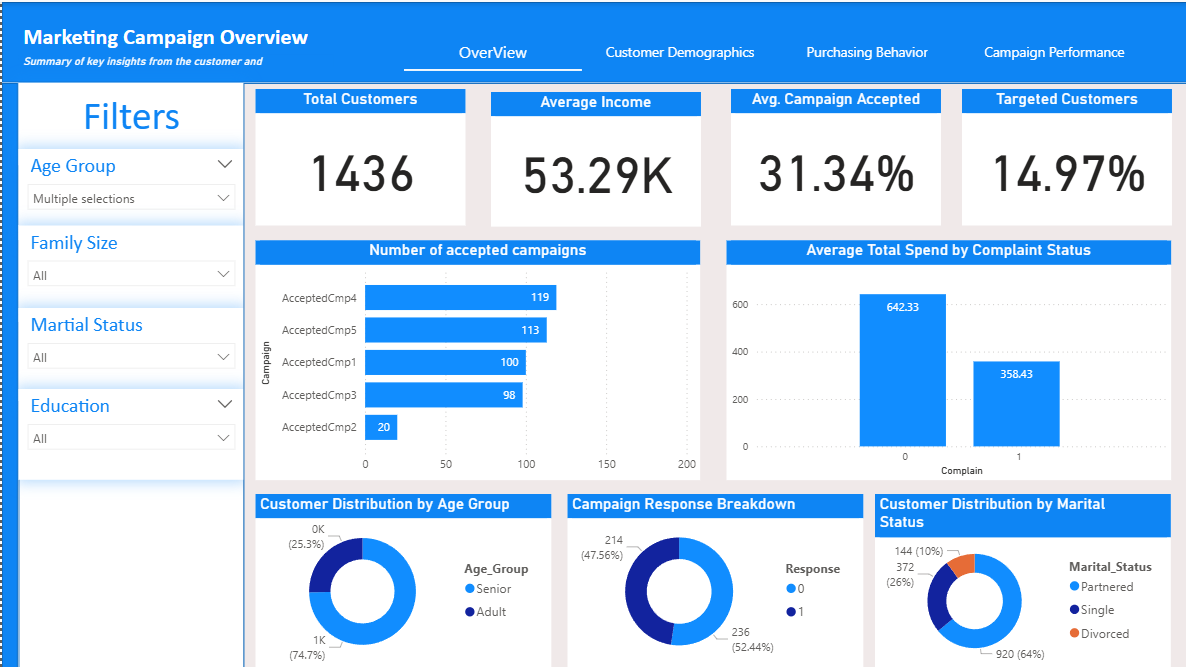

Layout of this report page (visuals, bound fields, positions):
{"tool":"powerbi","page":{"name":"OverView","canvas":[1280,720],"ordinal":0},"visuals":[{"type":"shape","box":[0,0,1281.3,86.9],"z":0},{"type":"shape","box":[0,86.9,17,633.1],"z":1000},{"type":"textbox","title":"Marketing Campaign Overview","box":[17,22.7,340.2,34],"z":2000},{"type":"textbox","title":"Summary of key insights from the customer and campaign data","box":[17,56.7,340.2,13.2],"z":3000},{"type":"shape","box":[17,86.9,243.8,633.1],"z":4000},{"type":"textbox","title":"Filters","box":[17,86.9,243.8,88.8],"z":5000},{"type":"slicer","fields":{"Values":["Marketing Campaign CLeaned.Age_Group"]},"box":[17,158.7,243.8,98.3],"z":6000},{"type":"slicer","fields":{"Values":["Marketing Campaign CLeaned.FamilySize"]},"box":[17,241.9,243.8,103.9],"z":7000},{"type":"slicer","fields":{"Values":["Marketing Campaign CLeaned.Marital_Status"]},"box":[17,330.7,243.8,100.2],"z":8000},{"type":"slicer","fields":{"Values":["Marketing Campaign CLeaned.Education"]},"box":[17,417.6,243.8,98.3],"z":9000},{"type":"shape","box":[260.8,86.9,1018.6,633.1],"z":10000},{"type":"card","title":"Total Customers","fields":{"Values":["Marketing Campaign CLeaned.Total Customers"]},"box":[274,94.5,226.8,147.4],"z":11000},{"type":"card","title":"Average Income","fields":{"Values":["Avg(Marketing Campaign CLeaned.Income)"]},"box":[527.2,96.4,226.8,145.5],"z":12000},{"type":"card","title":"Targeted Customers ","fields":{"Values":["Marketing Campaign CLeaned.Targeted Customers"]},"box":[1035.6,94.5,226.8,147.4],"z":13000},{"type":"card","title":"Avg. Campaign Accepted","fields":{"Values":["Avg(Marketing Campaign CLeaned.TotalAcceptedCmp)"]},"box":[786.1,94.5,226.8,147.4],"z":14000},{"type":"barChart","title":"Number of accepted campaigns","fields":{"Category":["marketing campaign unpivot.Campaign"],"Y":["Sum(marketing campaign unpivot.Accepted)"]},"box":[274,257,480,258.9],"z":15000},{"type":"donutChart","title":"Campaign Response Breakdown","fields":{"Category":["Marketing Campaign CLeaned.Response"],"Y":["Sum(Marketing Campaign CLeaned.TotalAcceptedCmp)"]},"box":[610.4,531,319.4,189],"z":16000},{"type":"donutChart","title":"Customer Distribution by Marital Status","fields":{"Y":["Marketing Campaign CLeaned.Total Customers"],"Category":["Marketing Campaign CLeaned.Marital_Status"]},"box":[943,531,319.4,189],"z":17000},{"type":"donutChart","title":"Customer Distribution by Age Group","fields":{"Y":["Marketing Campaign CLeaned.Total Customers"],"Category":["Marketing Campaign CLeaned.Age_Group"]},"box":[274,531,319.4,189],"z":18000},{"type":"columnChart","title":"Average Total Spend by Complaint Status","fields":{"Y":["Avg(Marketing Campaign CLeaned.TotalSpend)"],"Category":["Marketing Campaign CLeaned.Complain"]},"box":[782.4,257,480,258.9],"z":19000},{"type":"pageNavigator","box":[433.2,33.2,800.1,42.4],"z":19001}]}

Visuals, with their boxes in screenshot pixels (x1, y1, x2, y2), scaled from the page's 1280x720 canvas onto the 1186x667 screenshot:
shape: bbox(0, 0, 1185, 81)
shape: bbox(0, 81, 16, 666)
"Marketing Campaign Overview" textbox: bbox(16, 21, 331, 53)
"Summary of key insights from the customer and campaign data" textbox: bbox(16, 53, 331, 65)
shape: bbox(16, 81, 242, 666)
"Filters" textbox: bbox(16, 81, 242, 163)
slicer - Marketing Campaign CLeaned.Age_Group: bbox(16, 147, 242, 238)
slicer - Marketing Campaign CLeaned.FamilySize: bbox(16, 224, 242, 320)
slicer - Marketing Campaign CLeaned.Marital_Status: bbox(16, 306, 242, 399)
slicer - Marketing Campaign CLeaned.Education: bbox(16, 387, 242, 478)
shape: bbox(242, 81, 1185, 666)
"Total Customers" card: bbox(254, 88, 464, 224)
"Average Income" card: bbox(488, 89, 699, 224)
"Targeted Customers " card: bbox(960, 88, 1170, 224)
"Avg. Campaign Accepted" card: bbox(728, 88, 939, 224)
"Number of accepted campaigns" barChart: bbox(254, 238, 699, 478)
"Campaign Response Breakdown" donutChart: bbox(566, 492, 862, 666)
"Customer Distribution by Marital Status" donutChart: bbox(874, 492, 1170, 666)
"Customer Distribution by Age Group" donutChart: bbox(254, 492, 550, 666)
"Average Total Spend by Complaint Status" columnChart: bbox(725, 238, 1170, 478)
pageNavigator: bbox(401, 31, 1143, 70)
